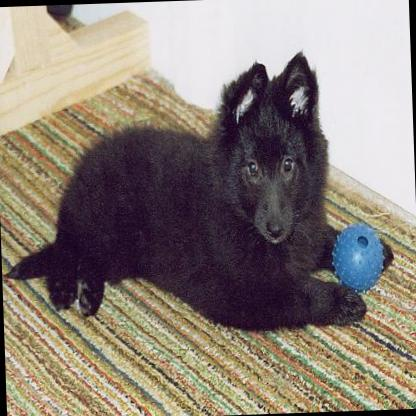groenendael: (0, 46, 396, 339)
